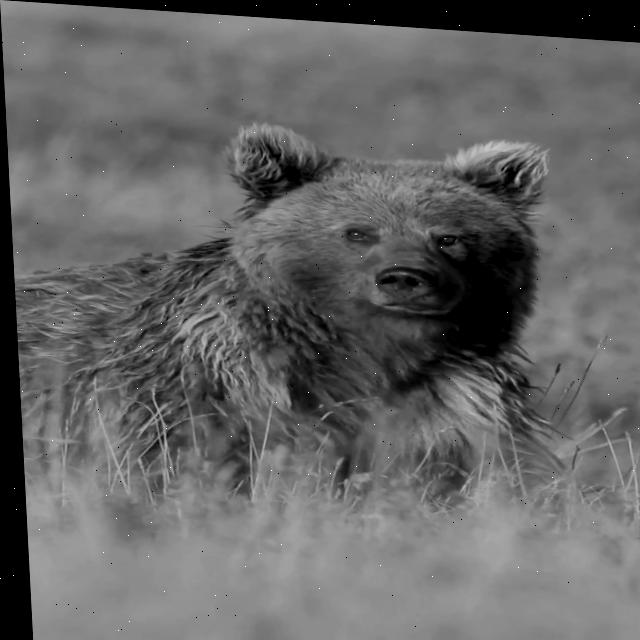Bear: (6, 104, 576, 542)
